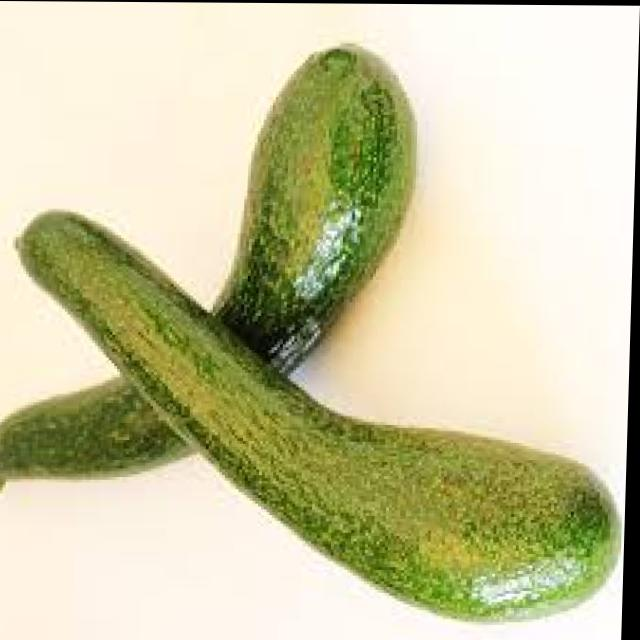Bo: (0, 185, 625, 621)
